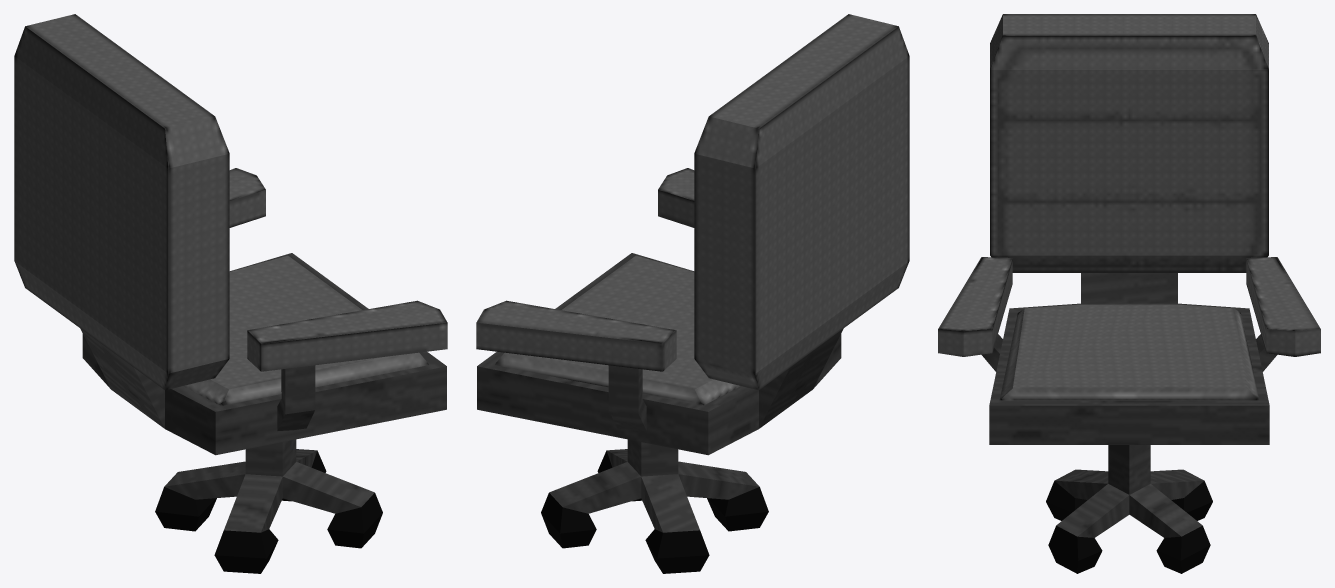
File: chair_01.fbx
3 renders of one model, left to right at view 1: azimuth 30°, elevation 25°; view 2: azimuth 150°, elevation 25°; view 3: azimuth 270°, elevation 25°, orthographic. The views are drawn at different scales.
Parts seen in each view (by area): view 1: chair; view 2: chair; view 3: chair.
Boxes of the visible parts, left/top/right/bottom form: chair: left=14, top=14, right=447, bottom=573; chair: left=476, top=14, right=909, bottom=573; chair: left=938, top=14, right=1320, bottom=573.
Size of the model in its own units: 289 by 492 by 380.
